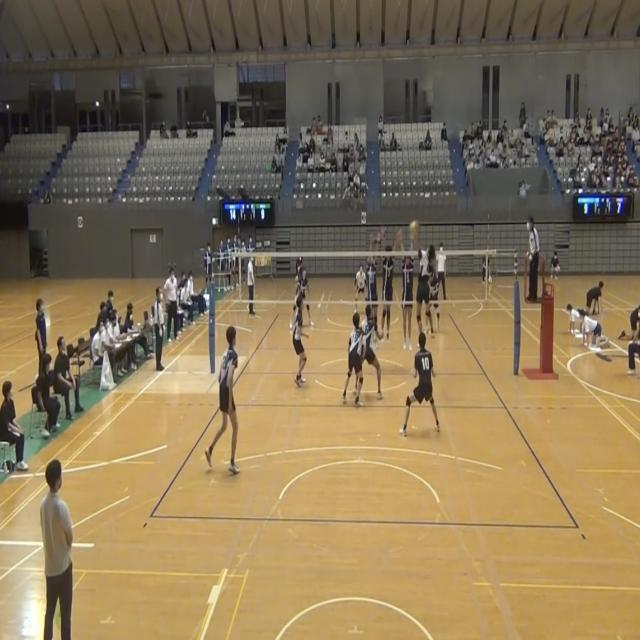spike: (406, 210, 436, 350)
